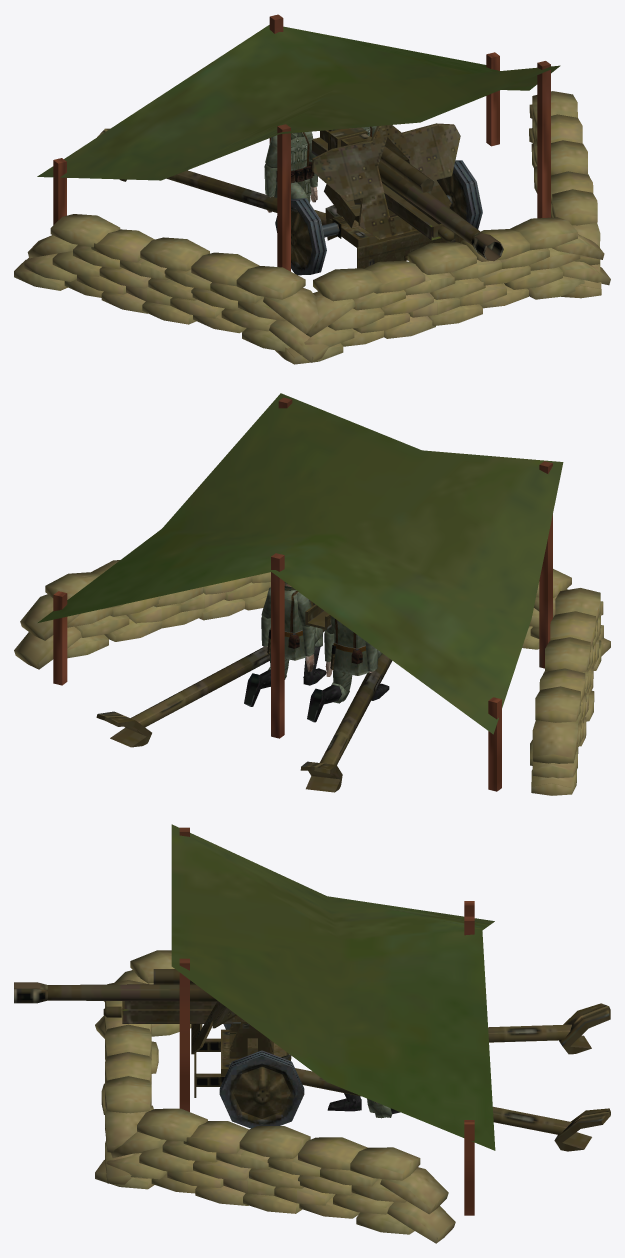
File: SWEHaubitsM39_stationary.dae
3 views of the same model, one above another, from view 1: azimuth 30°, elevation 25°; view 2: azimuth 150°, elevation 25°; view 3: azimuth 270°, elevation 25° (orthographic). The views are drawn at different scales.
Parts seen in each view (by area): view 1: base, carriage, barrel, sleeve, torso1; view 2: base, carriage, torso1, torso2; view 3: base, carriage, barrel, sleeve.
Part boxes in pixels (x1,y1,x2,y2): base: [14, 14, 610, 364]; carriage: [97, 123, 482, 275]; barrel: [328, 127, 503, 261]; sleeve: [311, 130, 454, 242]; torso1: [274, 132, 314, 197]; base: [14, 393, 610, 795]; carriage: [96, 600, 392, 792]; torso1: [330, 618, 369, 675]; torso2: [267, 586, 306, 660]; base: [95, 824, 495, 1243]; carriage: [191, 1001, 610, 1151]; barrel: [14, 982, 217, 1003]; sleeve: [103, 969, 240, 1023].
Bounding box in the file's own units: 51.33 × 46.12 × 18.15.
